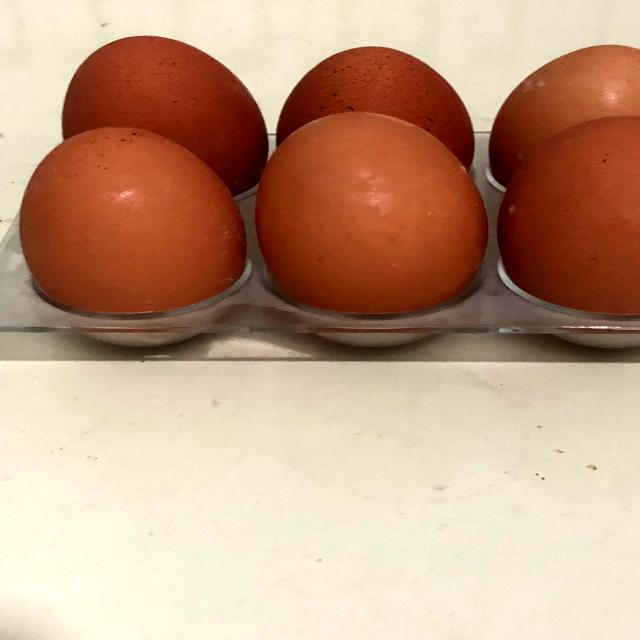egg: (11, 30, 640, 340), (253, 107, 492, 315), (12, 120, 246, 331)
